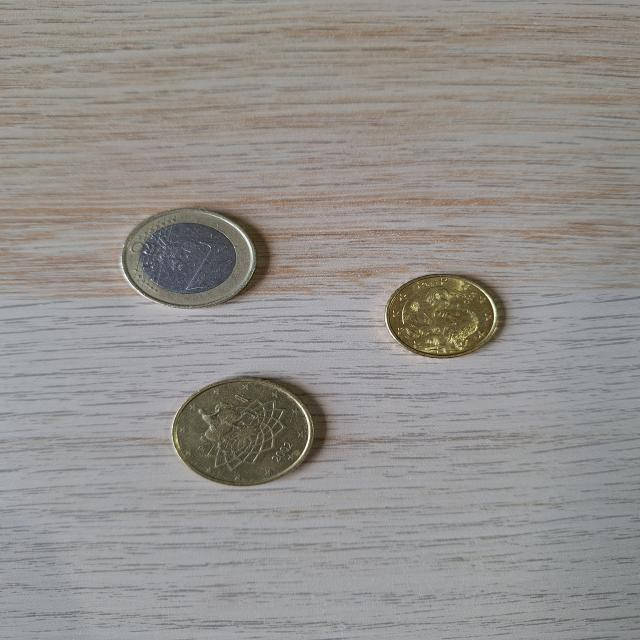10c: (376, 262, 524, 368)
1e: (109, 198, 275, 320)
50c: (146, 364, 345, 500)
